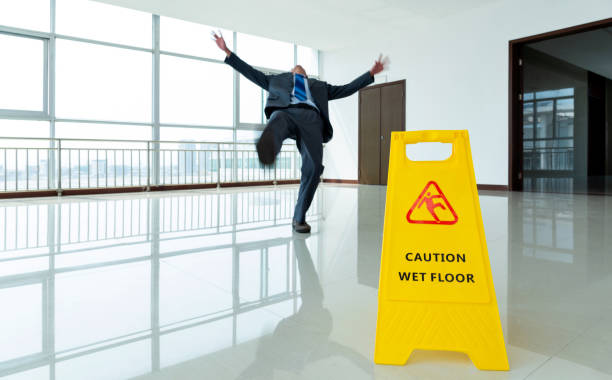wet caution sign: (372, 128, 511, 374)
